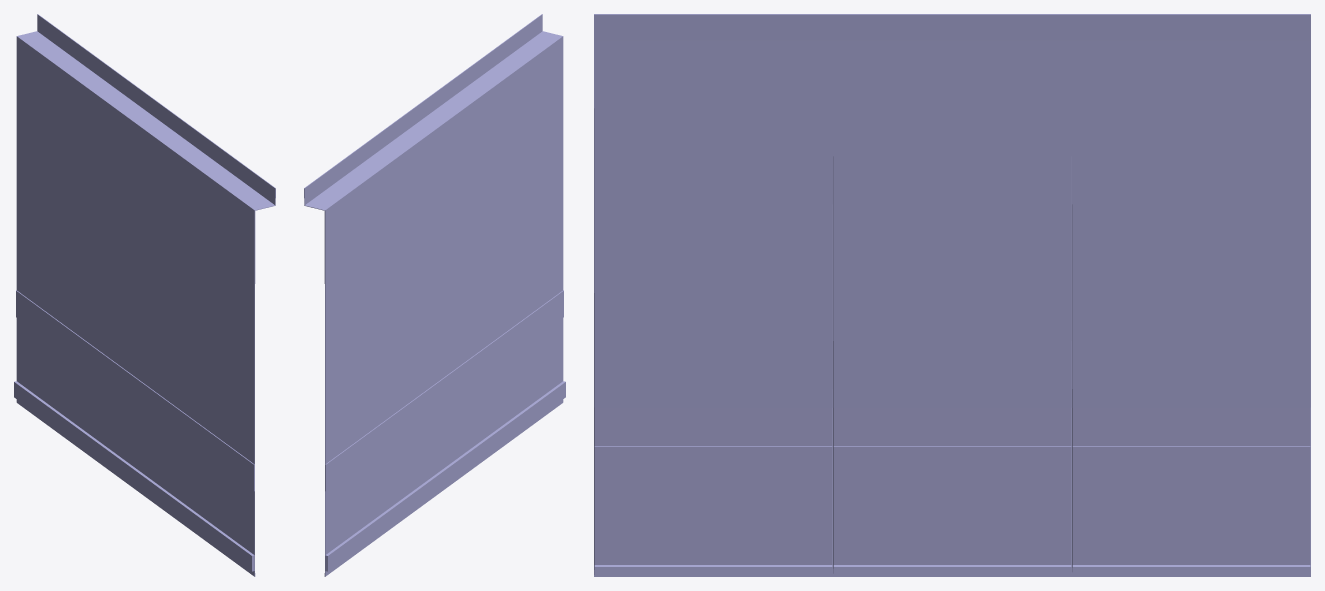
The model's file is Wand Innen 1.fbx.
3 renders of one model, left to right at view 1: azimuth 30°, elevation 25°; view 2: azimuth 150°, elevation 25°; view 3: azimuth 270°, elevation 25°, orthographic. The views are drawn at different scales.
Parts seen in each view (by area): view 1: Wand Innen 1.002, Wand Innen 1, Wand Innen 1.001; view 2: Wand Innen 1, Wand Innen 1.002, Wand Innen 1.001; view 3: Wand Innen 1, Wand Innen 1.001, Wand Innen 1.002.
Part boxes in pixels (x1,y1,x2,y2): Wand Innen 1.002: (172, 130, 275, 576); Wand Innen 1: (14, 14, 116, 460); Wand Innen 1.001: (93, 72, 196, 518); Wand Innen 1: (304, 130, 407, 576); Wand Innen 1.002: (463, 14, 565, 460); Wand Innen 1.001: (384, 72, 486, 518); Wand Innen 1: (1072, 14, 1310, 576); Wand Innen 1.001: (833, 14, 1071, 576); Wand Innen 1.002: (594, 14, 832, 576).
Size of the model in its own units: 34.68 by 533 by 600.
